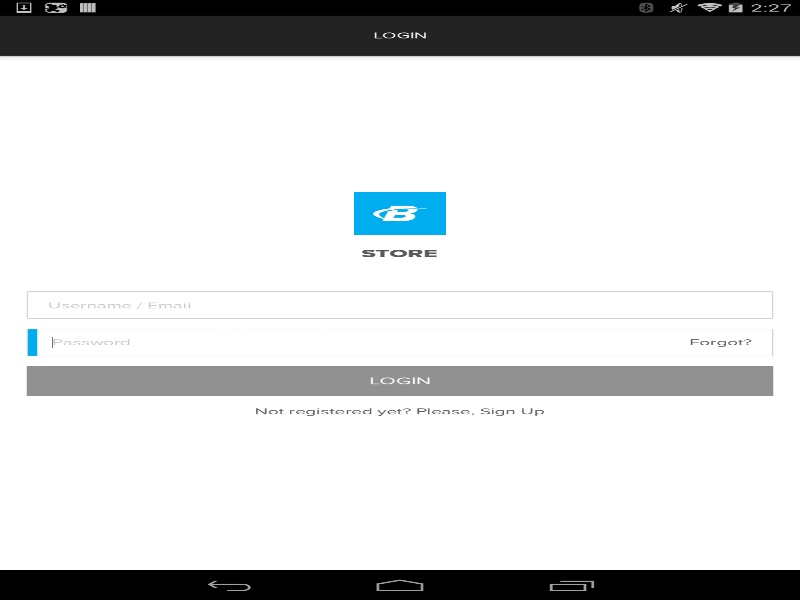Button: (26, 366, 773, 396)
Input: (28, 323, 772, 361), (28, 286, 772, 323)
